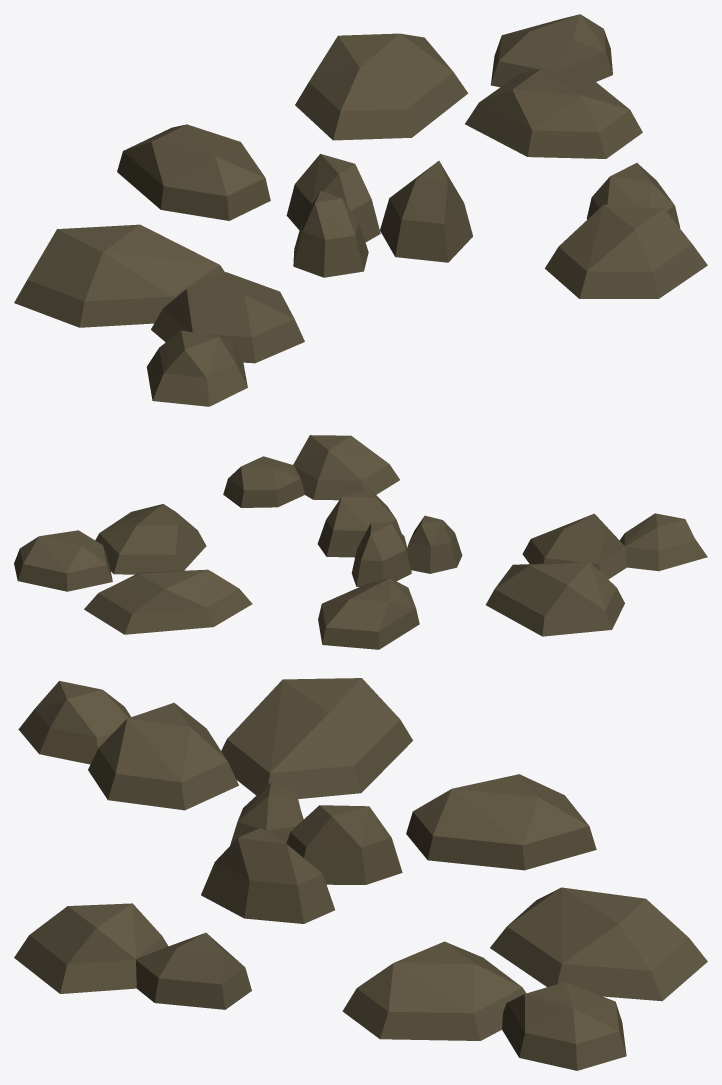
The model's file is rock__pebbles2.glb.
3 views of the same model, one above another, from view 1: azimuth 30°, elevation 25°; view 2: azimuth 150°, elevation 25°; view 3: azimuth 270°, elevation 25° (orthographic). The views are drawn at different scales.
Visible parts, largest first — view 1: pebbles2.caves.medium; view 2: pebbles2.caves.medium; view 3: pebbles2.caves.medium.
Boxes of the visible parts, bbox=[...] form: pebbles2.caves.medium: bbox=[14, 14, 707, 406]; pebbles2.caves.medium: bbox=[14, 435, 707, 649]; pebbles2.caves.medium: bbox=[14, 678, 707, 1070].
Size of the model in its own units: 2.23 by 0.1965 by 1.81.
1 material, 1 textured.
